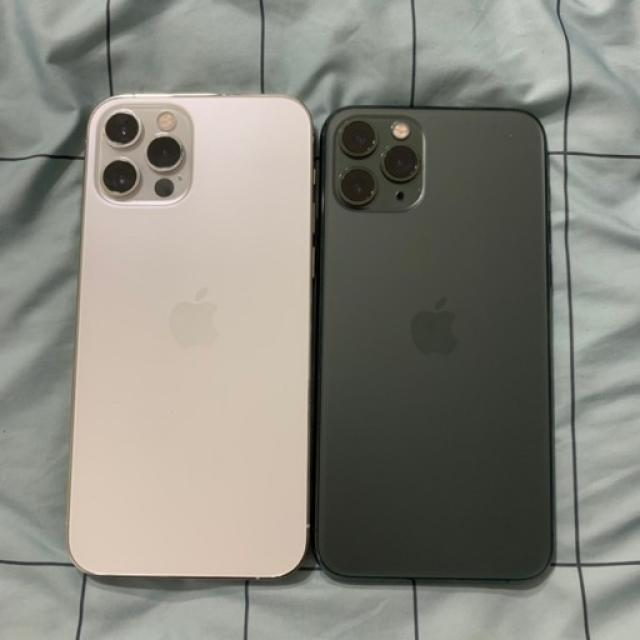phone: (65, 90, 313, 579), (318, 105, 552, 582)
